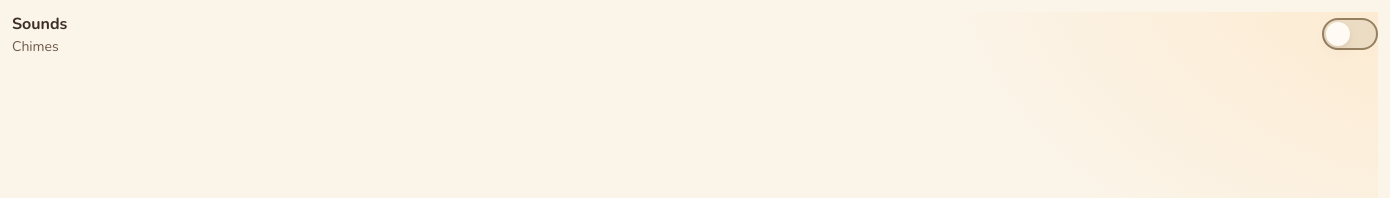
Scenario: Toggle › is a labelled switch
The image size is (1390, 198).
Click the switch named "Sounds".
click(1350, 34)  # box [1322,18,1378,50]
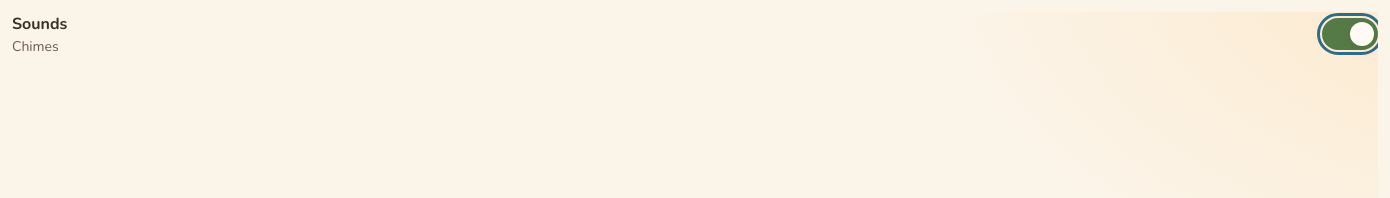
Result: the switch named "Sounds" is checked at [1322,18,1378,50]
